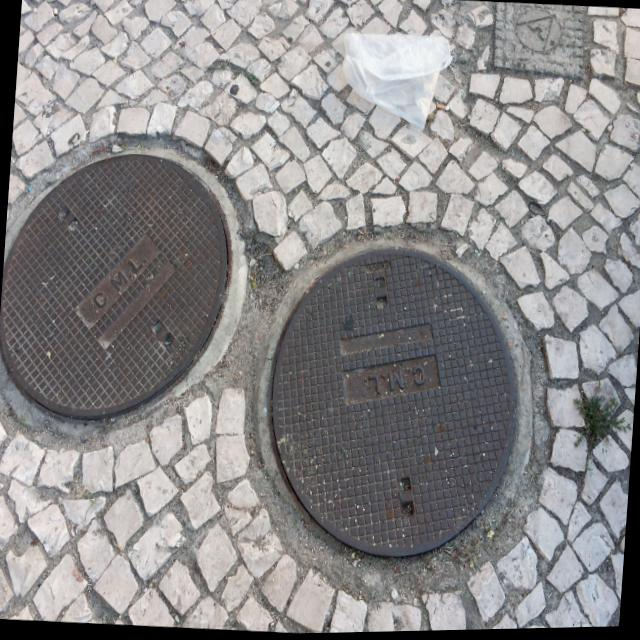Plastic: (321, 13, 461, 148)
